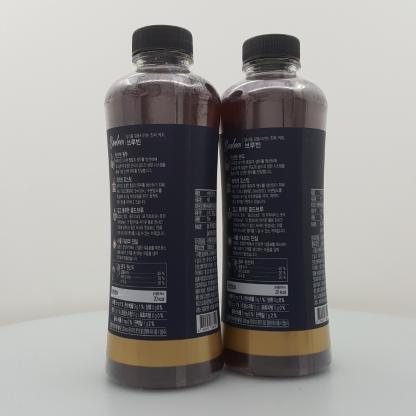-------------: (104, 24, 224, 390), (215, 34, 332, 377)
